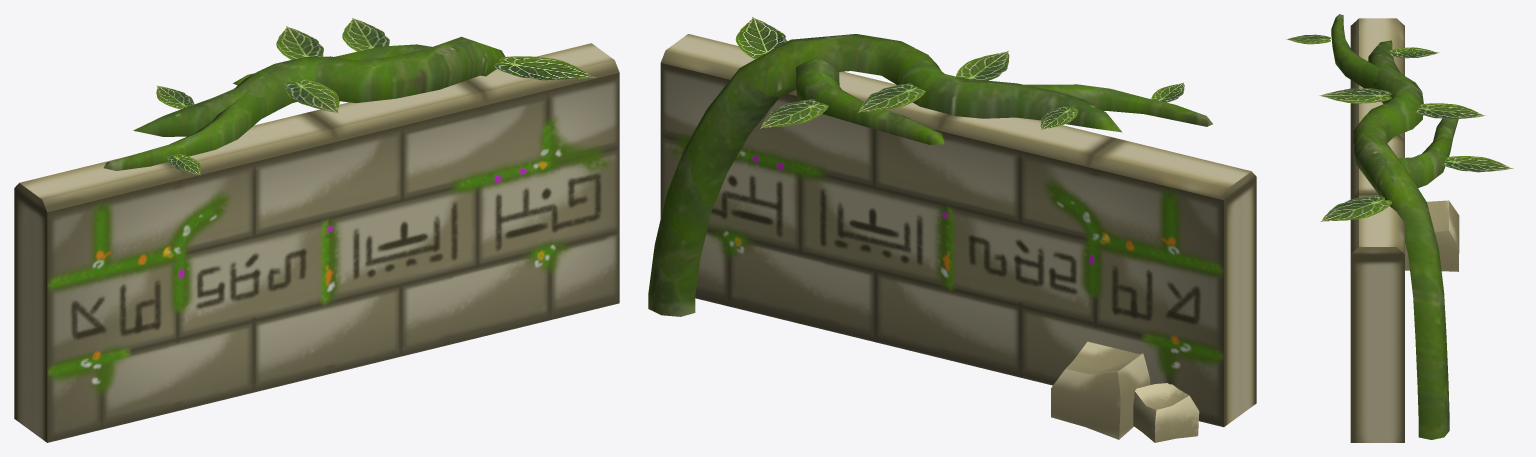
The model's file is ms_WallVine01.fbx.
3 views of the same model, side by side, from view 1: azimuth 30°, elevation 25°; view 2: azimuth 150°, elevation 25°; view 3: azimuth 270°, elevation 25° (orthographic). The views are drawn at different scales.
Visible parts, largest first — view 1: polySurface18; view 2: polySurface18; view 3: polySurface18.
Part boxes in pixels (x1,y1,x2,y2): polySurface18: (14, 18, 619, 442); polySurface18: (648, 17, 1256, 442); polySurface18: (1286, 14, 1513, 442).
Bounding box in the file's own units: 390 × 193 × 171.
